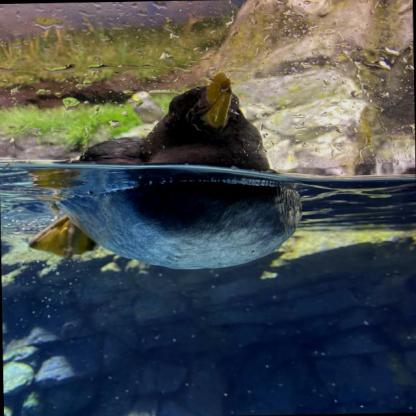puffin: (20, 67, 304, 286)
